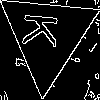K: (22, 11, 67, 49)
